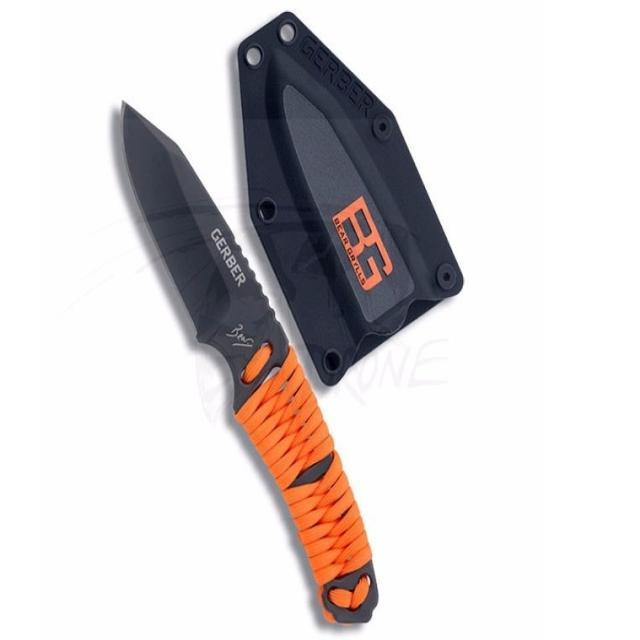knife: (115, 98, 385, 630)
